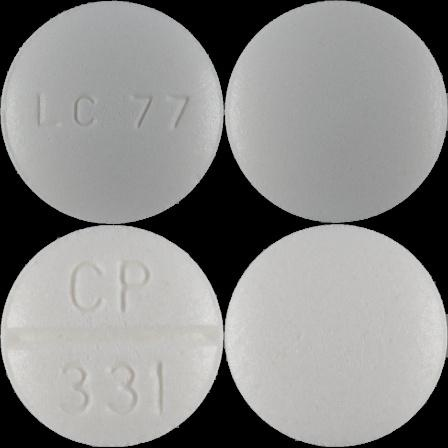54482-144: (0, 0, 224, 224)
